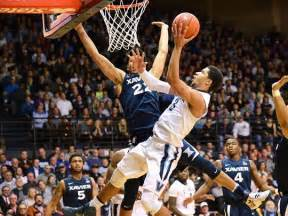basketball: (171, 12, 199, 39)
